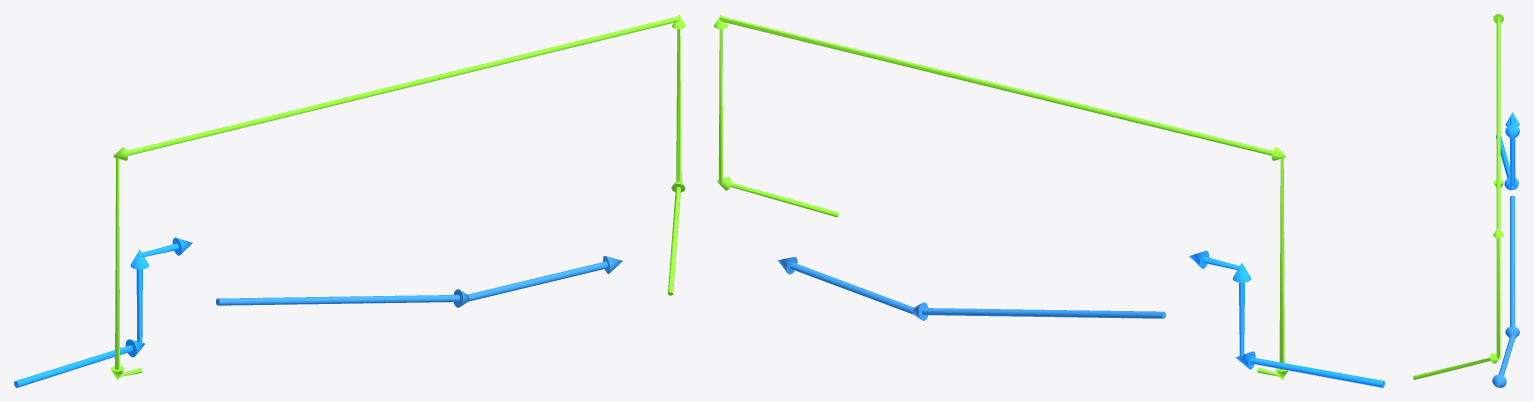
Rendered from dissolved_air_flotation_unit_flow.glb.
3 views of the same model, side by side, from view 1: azimuth 30°, elevation 25°; view 2: azimuth 150°, elevation 25°; view 3: azimuth 270°, elevation 25° (orthographic). The views are drawn at different scales.
Visible parts, largest first — view 1: recycle, clarified, feed; view 2: recycle, clarified, feed; view 3: recycle, clarified, feed.
Boxes of the visible parts, x1,y1,x2,y2 form: recycle: (110, 14, 685, 380); clarified: (216, 256, 622, 307); feed: (14, 237, 192, 387); recycle: (714, 14, 1288, 380); clarified: (778, 257, 1165, 320); feed: (1189, 250, 1384, 387); recycle: (1413, 14, 1503, 379); clarified: (1492, 195, 1519, 387); feed: (1496, 112, 1519, 190).
Size of the model in its own units: 4.29 by 1.53 by 0.7618.
